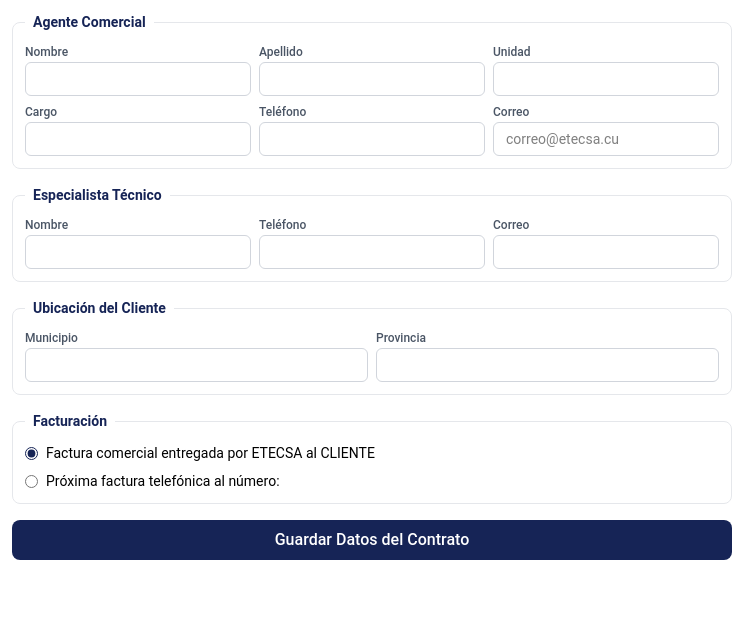
Test case: ContratoInfoForm › debe mostrar error si facturación telefónica sin número
Click the radio button labelled "Próxima factura telefónica al número:".
click(32, 481)  # box [25,474,38,488]
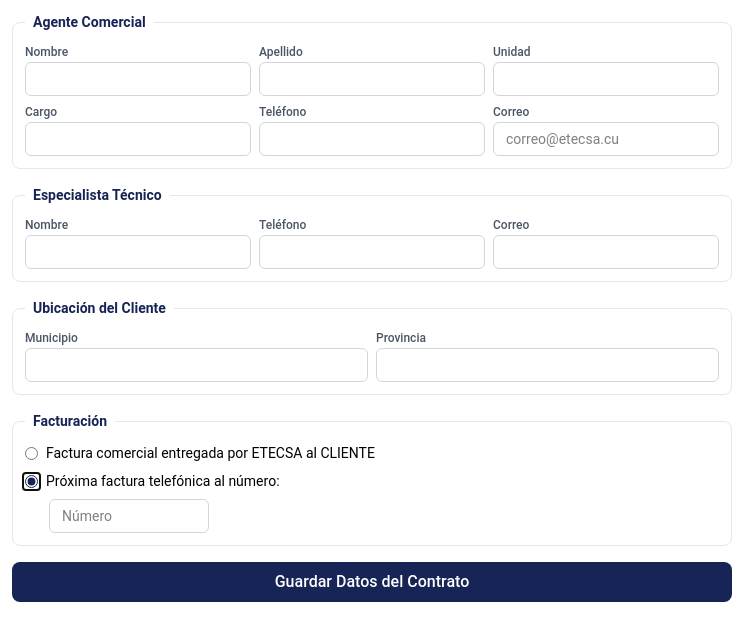
Click the button "Guardar Datos del Contrato".
click(372, 582)  # box [12,562,732,602]
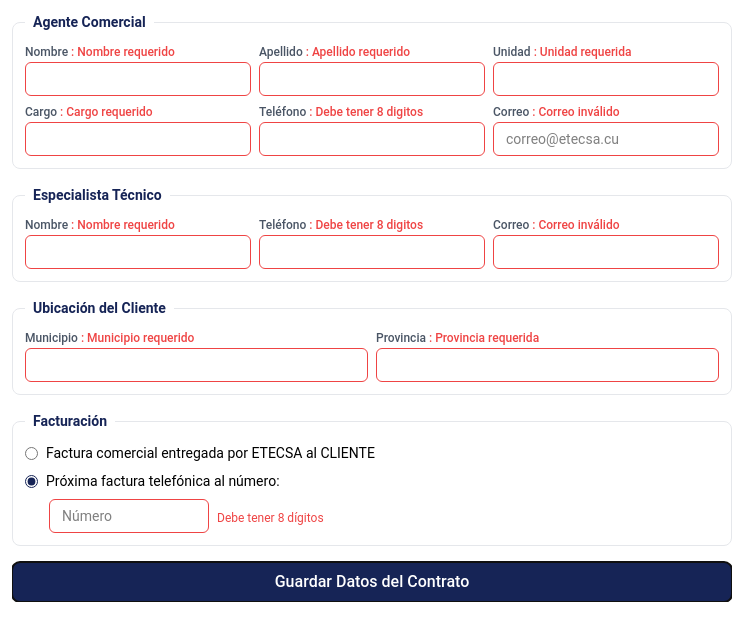
Expected: the text "Debe tener 8 dígitos" is shown, [217,510,324,526]
